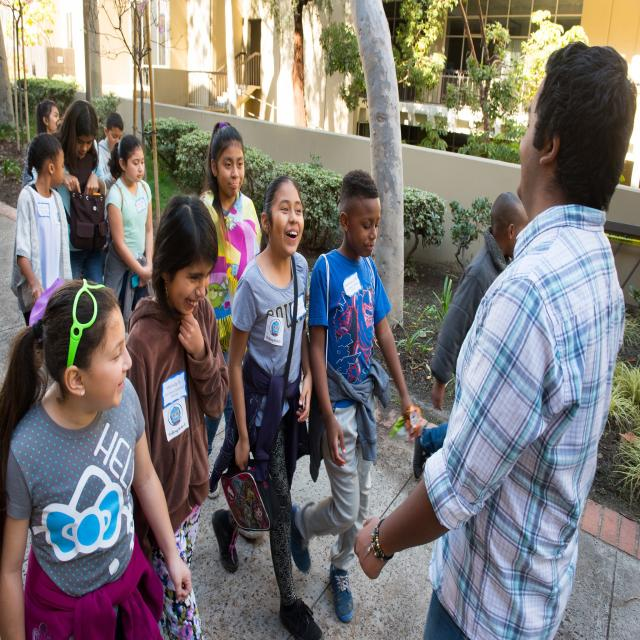body: (348, 36, 640, 640), (0, 274, 195, 640), (283, 164, 422, 630), (208, 167, 328, 640), (124, 191, 232, 640), (417, 190, 530, 483), (193, 120, 263, 498), (8, 132, 74, 328), (49, 96, 112, 289), (102, 134, 156, 343), (24, 98, 63, 190), (98, 112, 125, 223)
